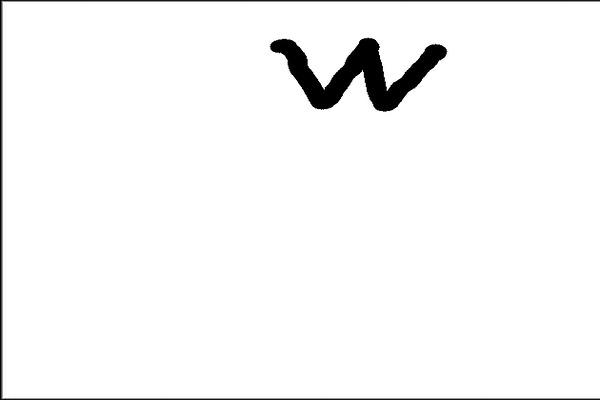w: (258, 16, 484, 141)
